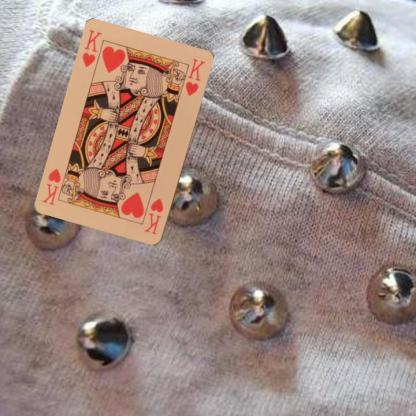Kh: (80, 27, 103, 69), (142, 196, 165, 236)
